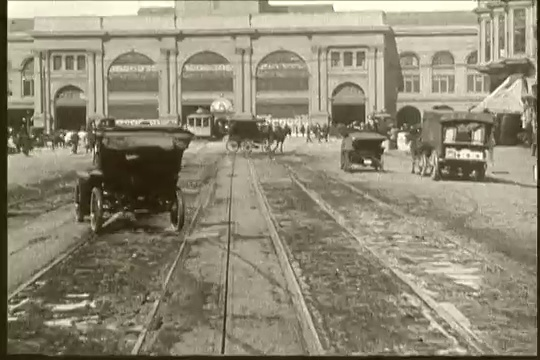car: (72, 120, 195, 239), (332, 127, 391, 174)
carriage: (403, 108, 490, 187), (222, 108, 296, 158)
